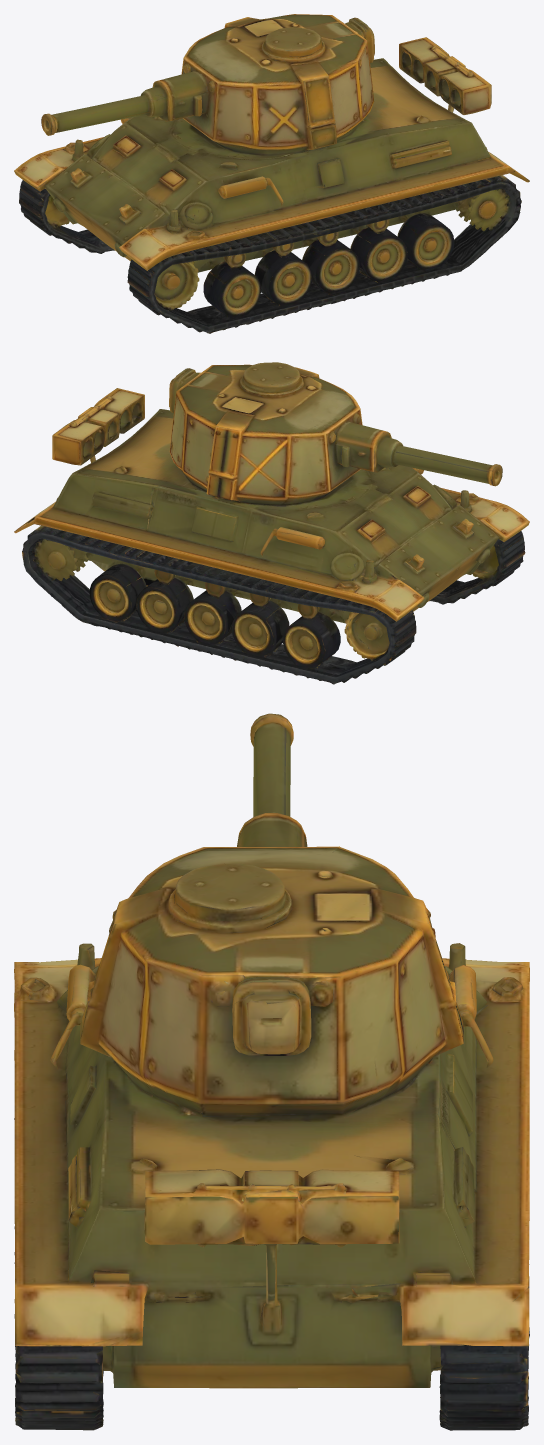
The model's file is tank.glb.
The picture shows the model from 3 angles, top to bottom: view 1: azimuth 30°, elevation 25°; view 2: azimuth 150°, elevation 25°; view 3: azimuth 270°, elevation 25°; orthographic projection. The views are drawn at different scales.
Parts seen in each view (by area): view 1: Mesh1.0; view 2: Mesh1.0; view 3: Mesh1.0.
Part boxes in pixels (x1,y1,x2,y2): Mesh1.0: (14,14,529,333); Mesh1.0: (14,362,529,684); Mesh1.0: (14,713,529,1430).
Bounding box in the file's own units: 1.84 × 0.9496 × 1.01.
1 material, 1 textured.
